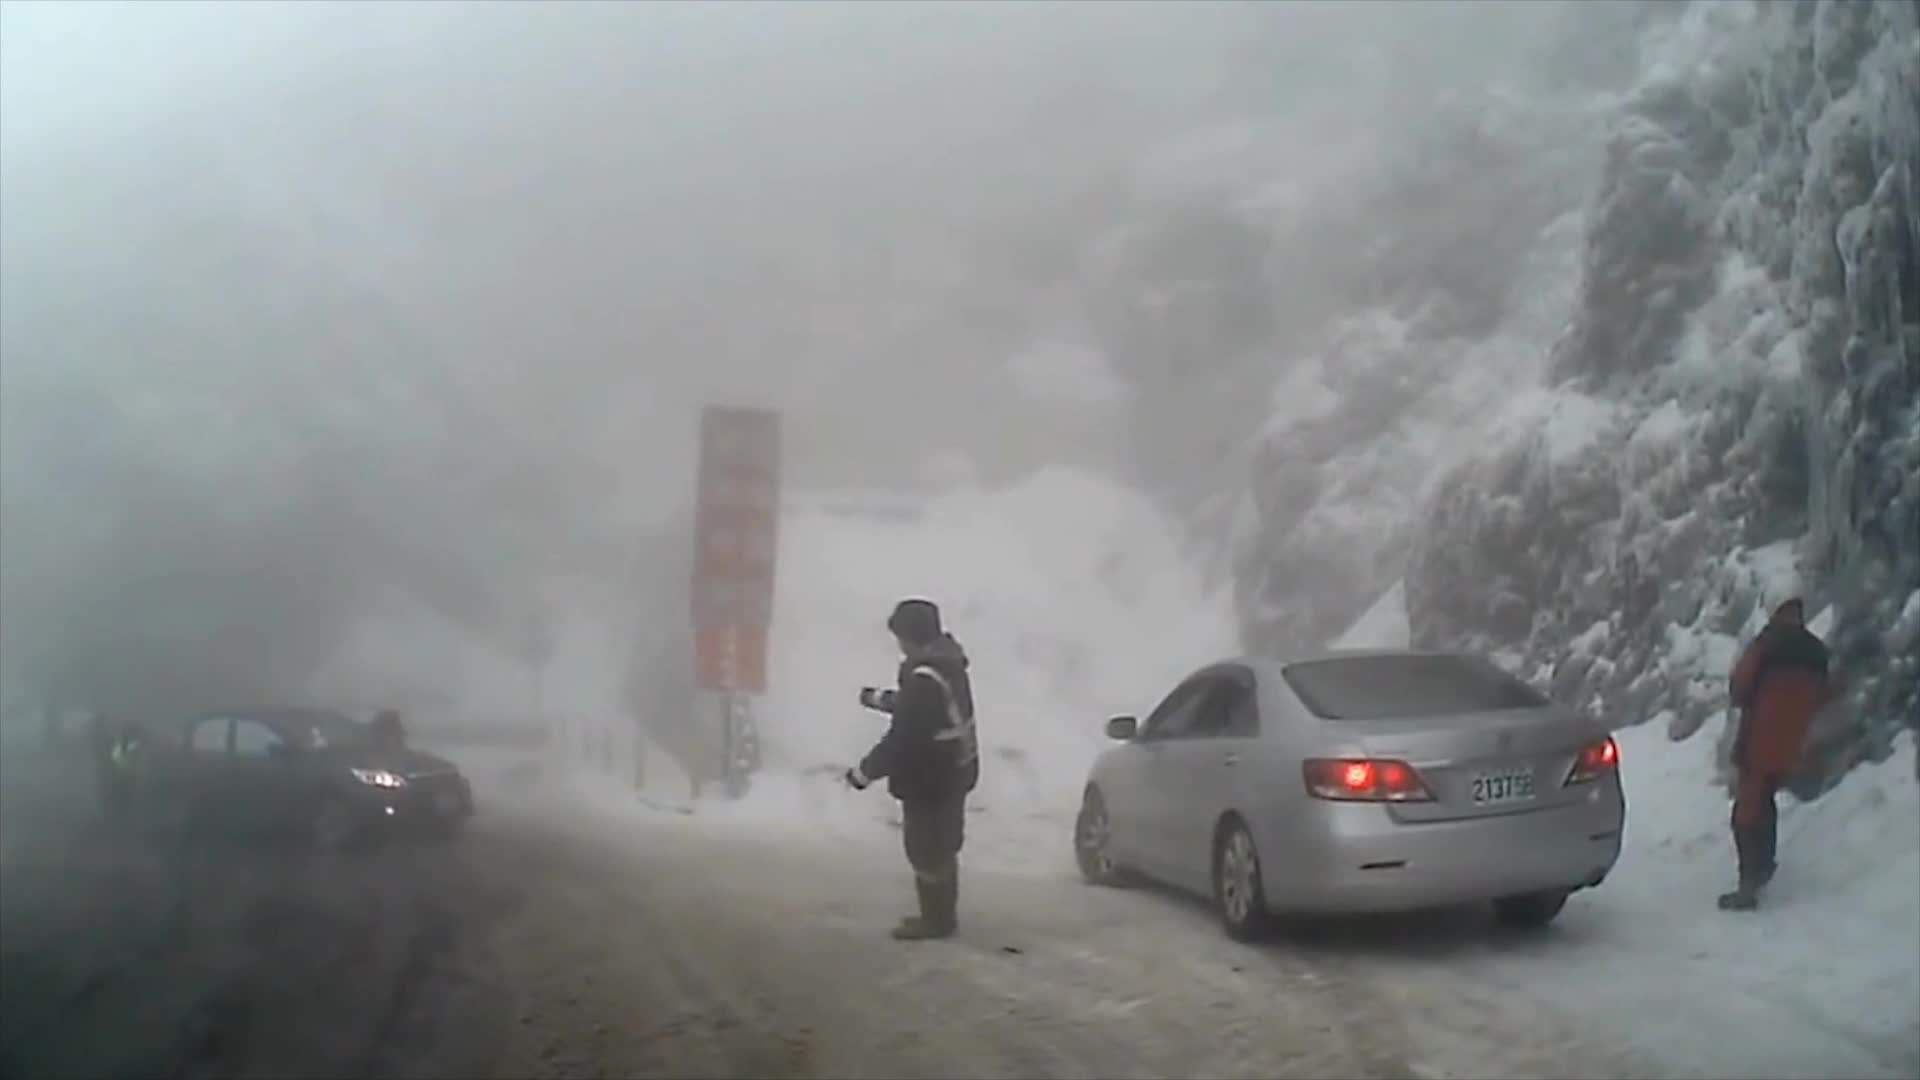pedestrian: (810, 600, 986, 945), (1720, 574, 1831, 911)
vehicle: (1073, 646, 1626, 940), (136, 706, 469, 863)
